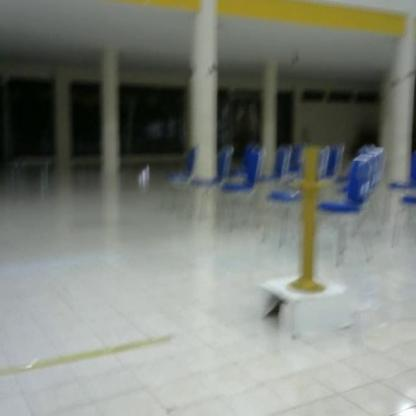pole: (287, 136, 335, 300)
